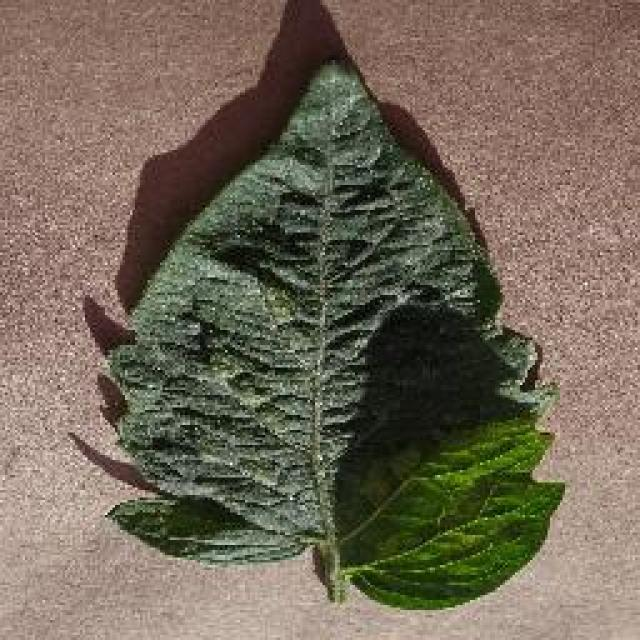Tomato mosaic virus leaf: (92, 65, 568, 615)
